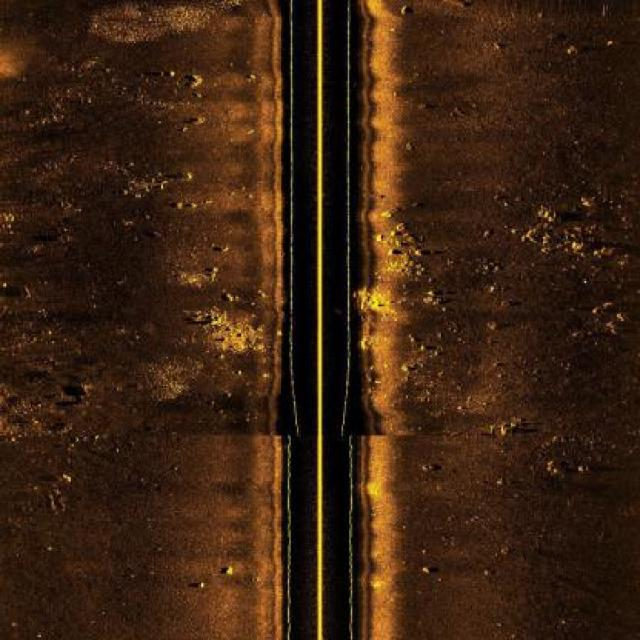mine: (442, 0, 472, 9), (191, 578, 207, 594), (0, 302, 9, 316)
other: (1, 282, 33, 301), (59, 382, 92, 400), (216, 564, 239, 579)
